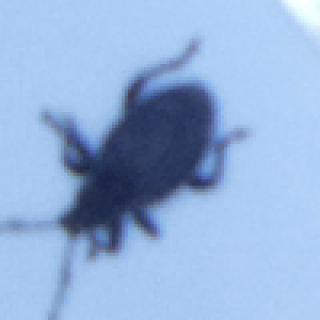bvw: (5, 36, 246, 320)
